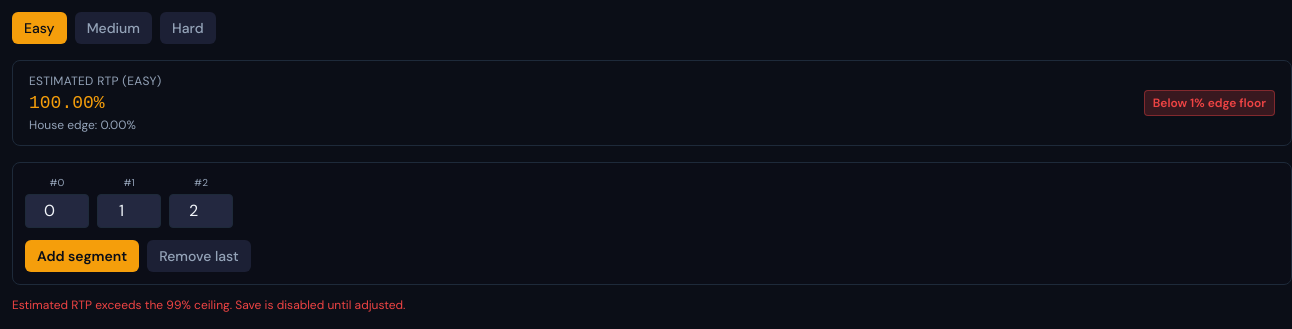
Test: WheelPayoutEditor › preserves edits when switching tabs
The image size is (1292, 329).
Replace the text in the number field with test id "wheel-input-easy-1" with "4" at (129, 211), box [97,194,161,228]
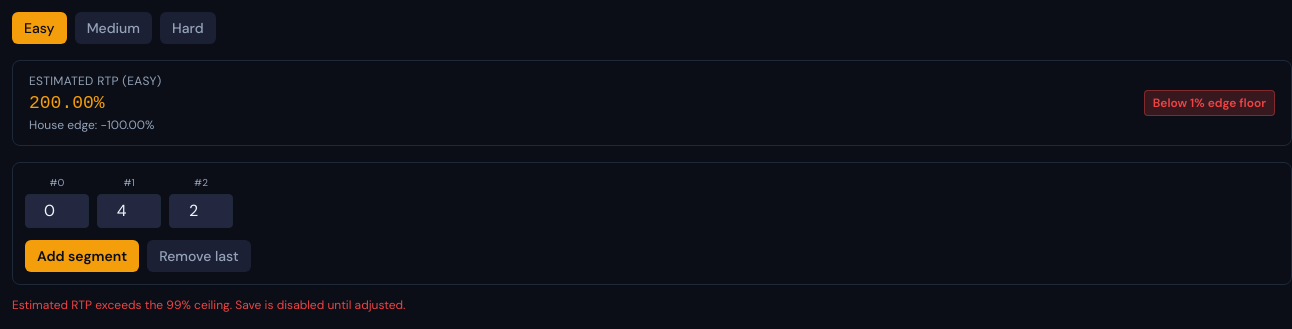
// Switch tabs and back
Click the tab with test id "wheel-tab-medium" at (113, 28), box [75,12,152,44]
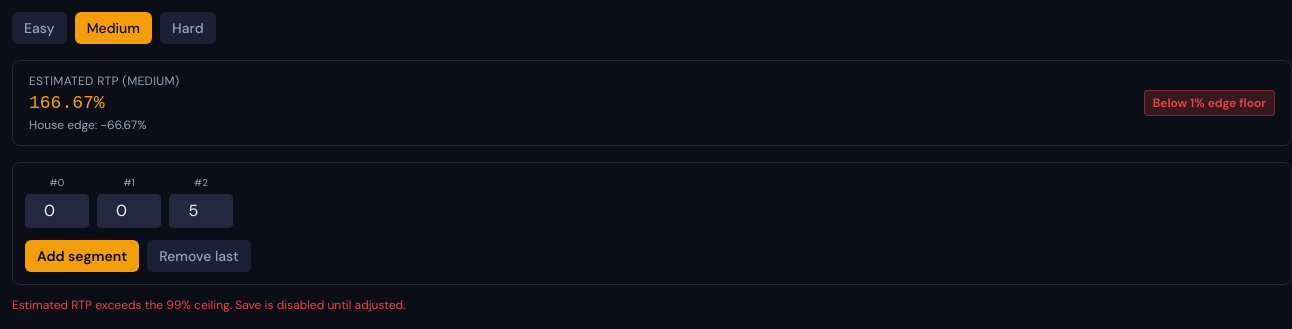
Click the tab with test id "wheel-tab-easy" at (39, 28), box [12,12,67,44]
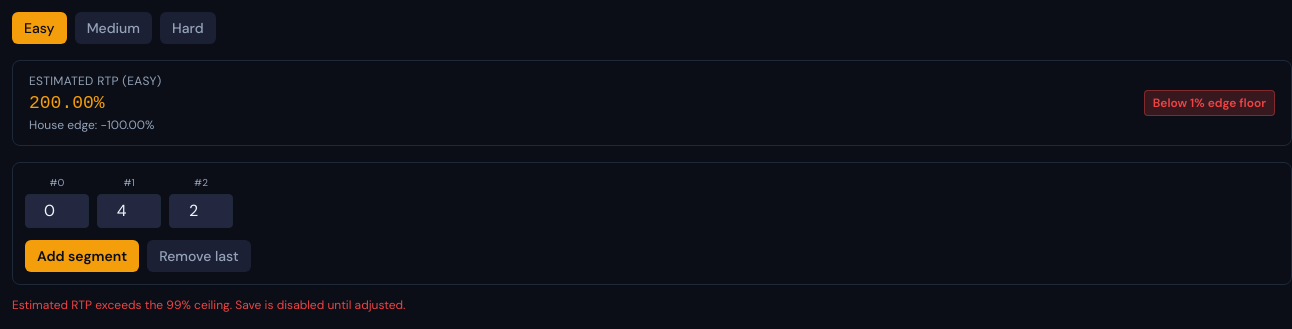
Now the number field with test id "wheel-input-easy-1" holds "4", box [97,194,161,228]
